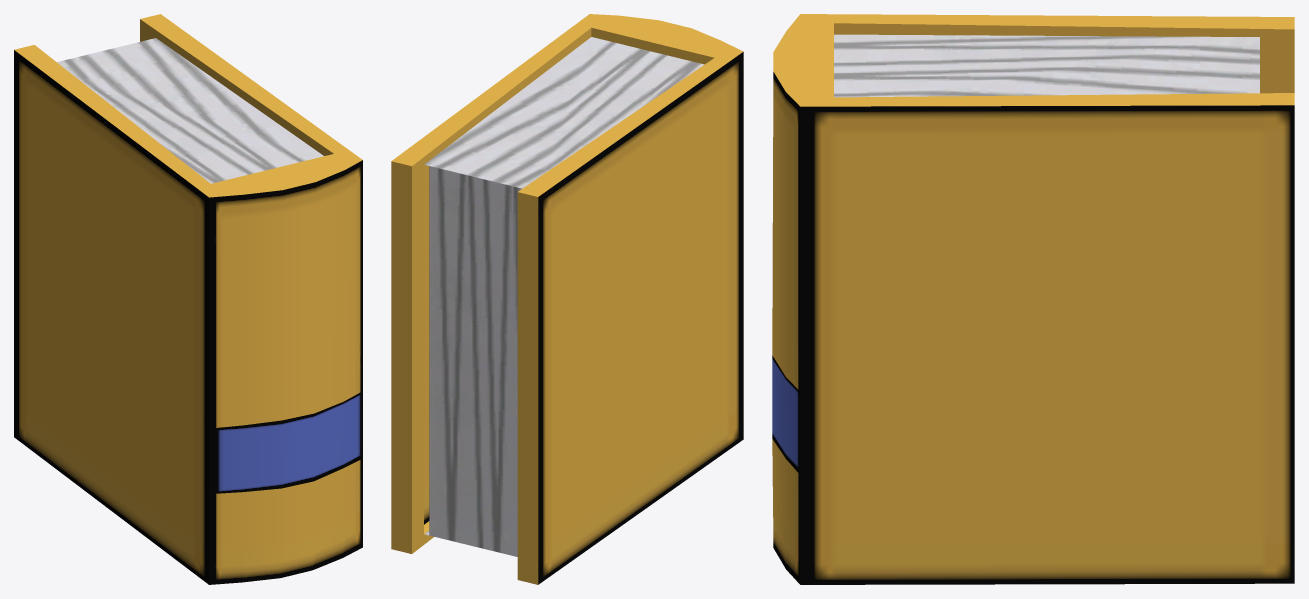
The model's file is Book_Yellow_Individual.fbx.
3 views of the same model, side by side, from view 1: azimuth 30°, elevation 25°; view 2: azimuth 150°, elevation 25°; view 3: azimuth 270°, elevation 25° (orthographic). The views are drawn at different scales.
Parts seen in each view (by area): view 1: Book2; view 2: Book2; view 3: Book2.
Part boxes in pixels (<box>): Book2: <box>14,14,362,584</box>; Book2: <box>391,14,743,584</box>; Book2: <box>772,14,1294,584</box>.
Size of the model in its own units: 12.94 by 31.14 by 30.82.
